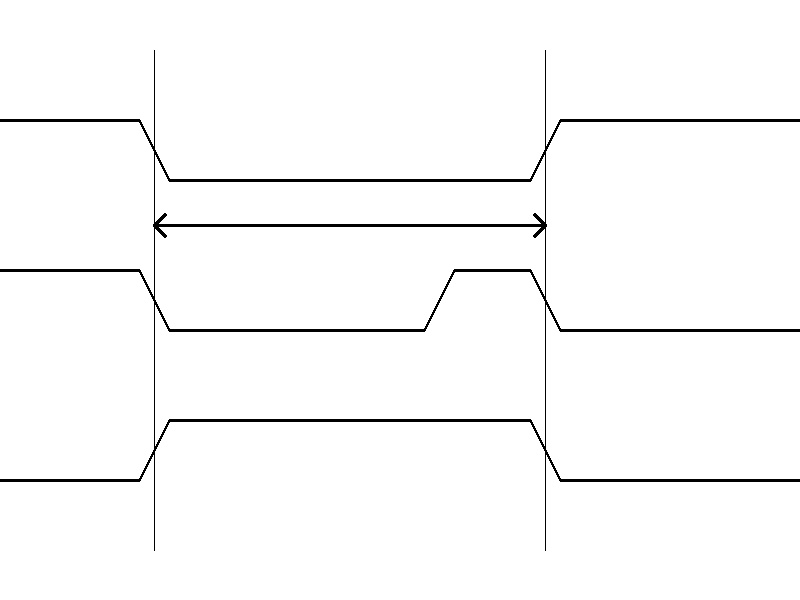double_arrow: (154, 210, 545, 240)
